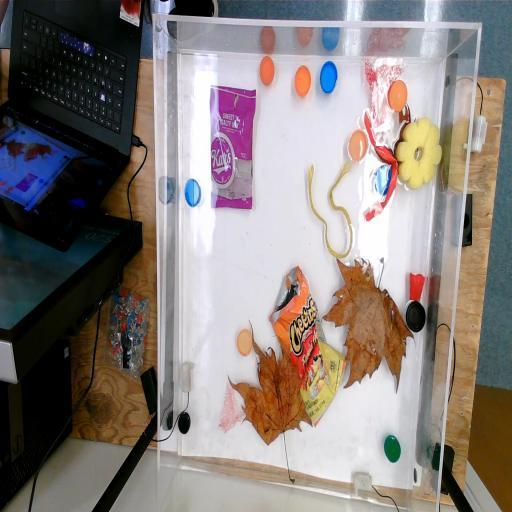Bottle Cap: (348, 128, 368, 164), (406, 300, 426, 332), (294, 64, 312, 98), (320, 60, 338, 94), (383, 434, 401, 466), (374, 164, 392, 196), (388, 79, 406, 110), (184, 178, 202, 208), (260, 56, 276, 88), (238, 328, 252, 357), (178, 410, 191, 436)
Cone Cap: (408, 268, 426, 302)
Leaf: (228, 319, 312, 483), (320, 254, 416, 396), (394, 100, 416, 160)
Netting: (363, 57, 404, 130), (217, 380, 246, 434)
Plastic Bag: (268, 264, 348, 428), (208, 83, 257, 211)
Plastic Strand: (308, 160, 354, 258), (364, 110, 398, 222)
Sponge: (395, 116, 443, 191)
